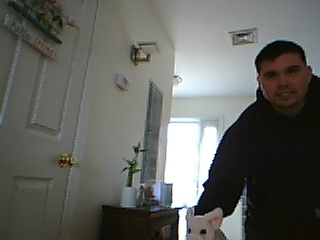piggy: (182, 206, 229, 240)
